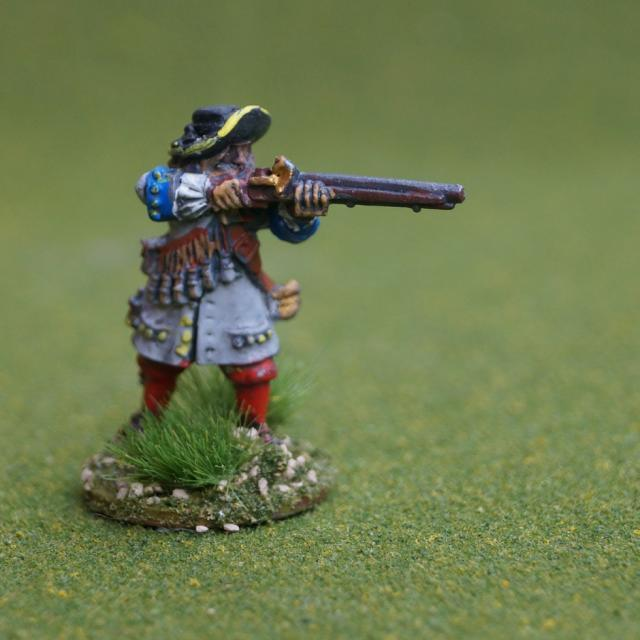weapon: (236, 168, 461, 206)
